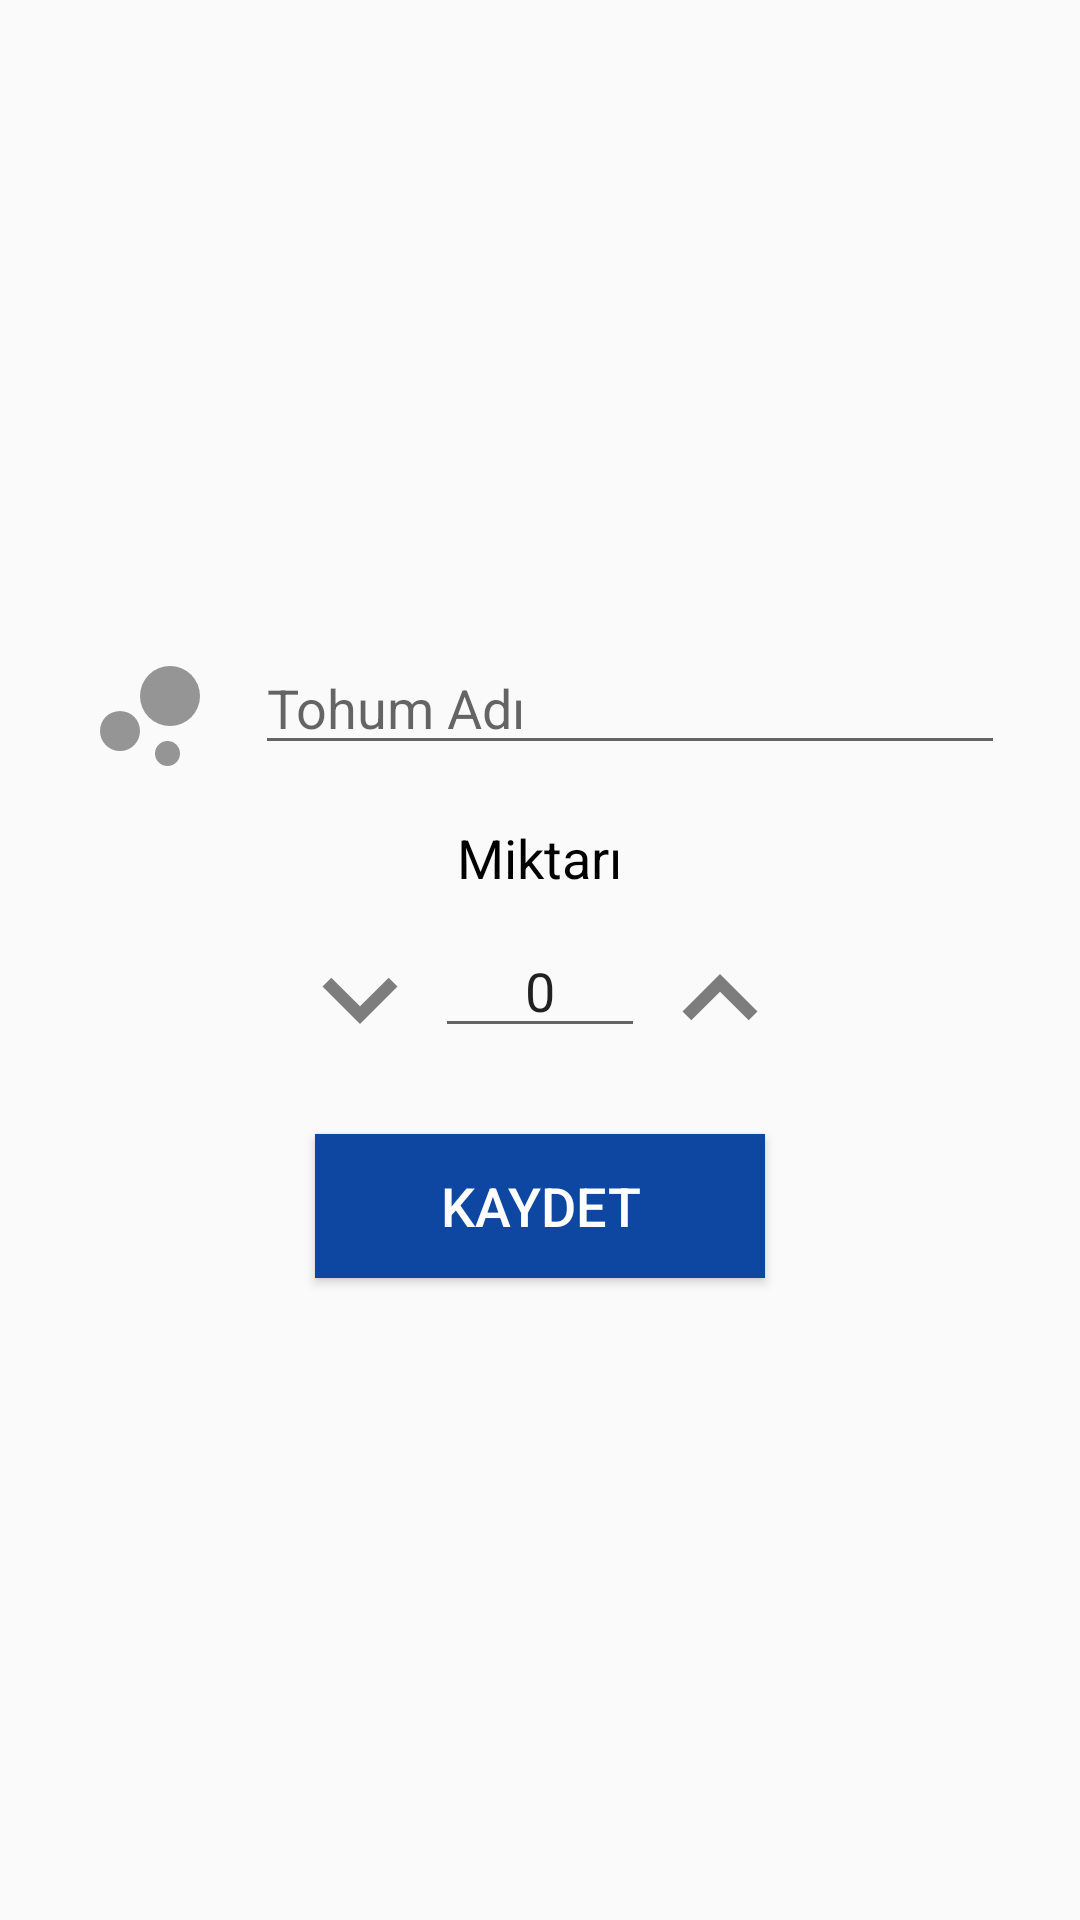

Icons on this 1080×1920 Android screen, each with its box as (x1, y1, x2, y2):
Arttır: (682, 974, 758, 1020)
Azalt: (322, 978, 398, 1024)
